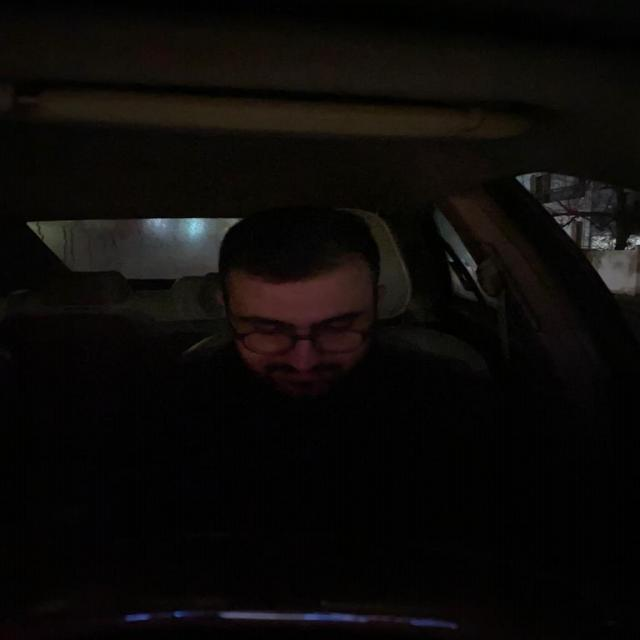drowsy: (211, 220, 388, 406)
